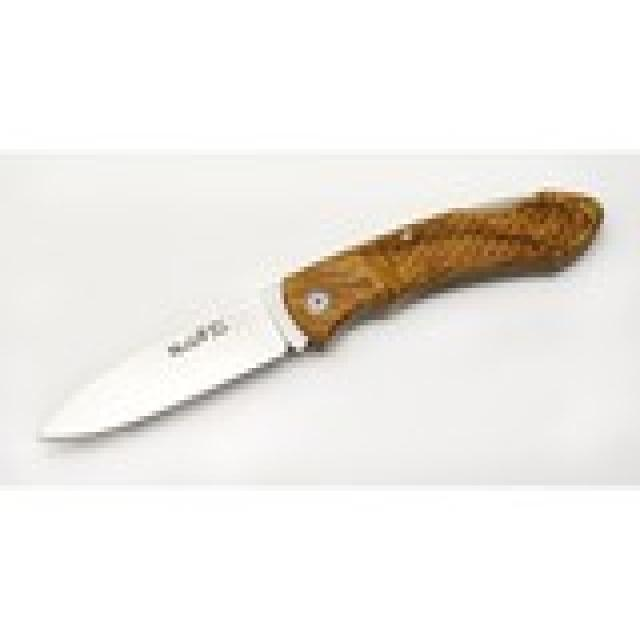Knife: (26, 177, 624, 458)
